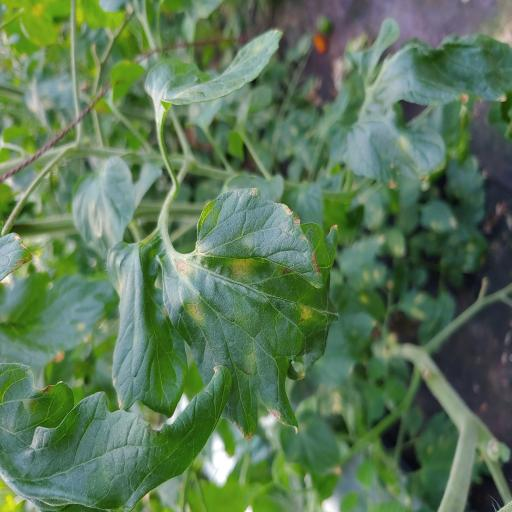Leaf Mold: (162, 187, 340, 437)
